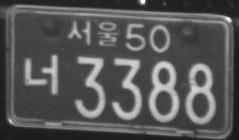0: (148, 23, 171, 54)
3: (110, 55, 143, 122), (73, 55, 106, 120)
5: (123, 21, 147, 52)
8: (147, 59, 180, 124), (184, 62, 217, 125)
너: (21, 53, 59, 96)
서울_O: (66, 19, 120, 48)
